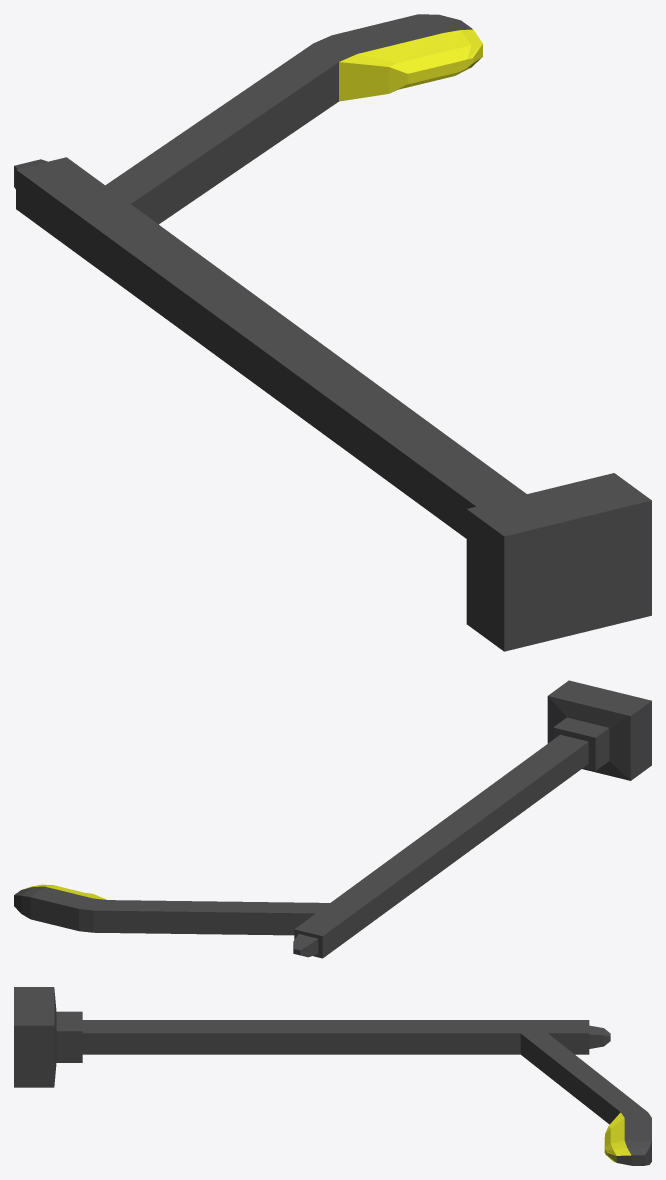
The model's file is LightStreet2.FBX.
3 renders of one model, top to bottom at view 1: azimuth 30°, elevation 25°; view 2: azimuth 150°, elevation 25°; view 3: azimuth 270°, elevation 25°, orthographic. The views are drawn at different scales.
Visible parts, largest first — view 1: Box009; view 2: Box009; view 3: Box009.
Part boxes in pixels (bbox=[...]): Box009: bbox=[14, 14, 651, 651]; Box009: bbox=[14, 680, 651, 958]; Box009: bbox=[14, 987, 651, 1165].
Size of the model in its own units: 42.66 by 8.61 by 80.63.
